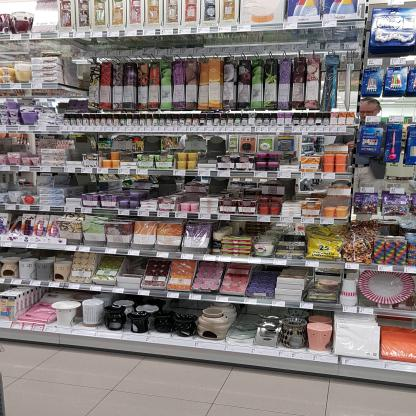Void: (64, 178, 82, 198), (108, 172, 128, 186), (128, 257, 143, 274), (66, 147, 82, 158)
